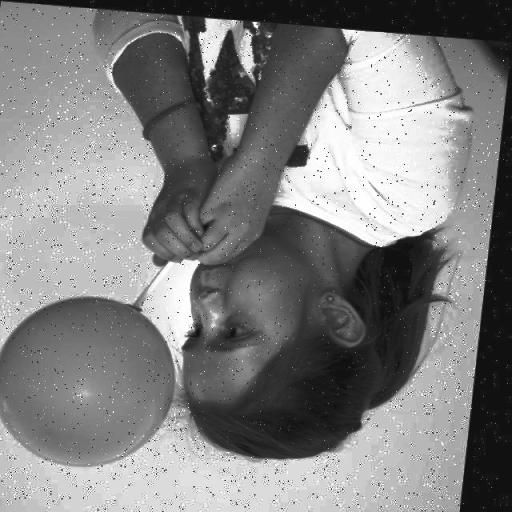balloon: (0, 288, 184, 470)
